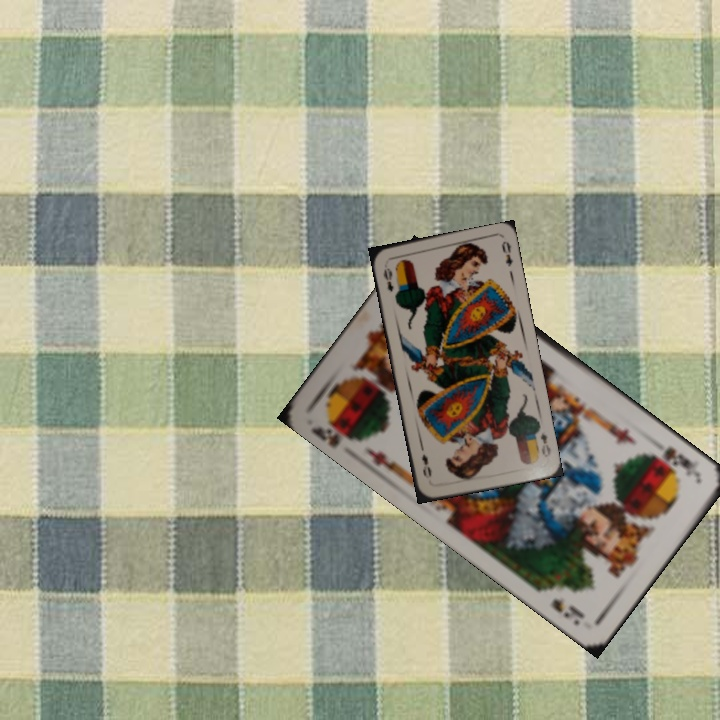EO: (536, 429, 553, 460), (379, 264, 396, 294)
SK: (646, 442, 701, 480), (308, 416, 364, 450)
